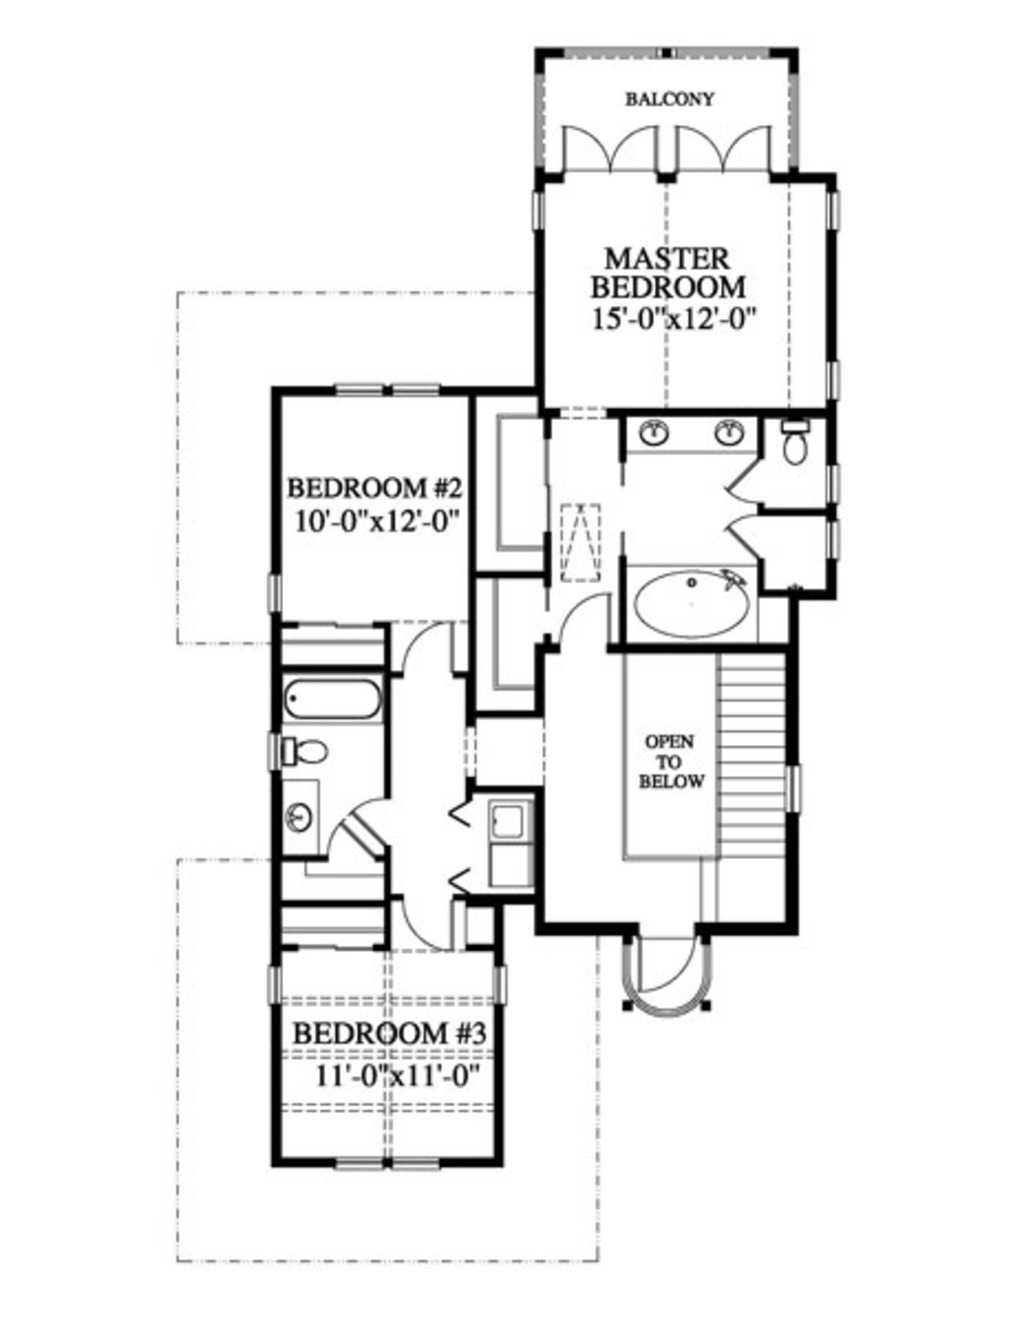door: (549, 118, 659, 184), (670, 121, 776, 181), (630, 932, 696, 1001), (556, 591, 624, 648), (396, 887, 455, 953), (396, 617, 462, 671), (324, 822, 373, 869), (355, 787, 393, 846)
large_sink: (672, 117, 773, 184), (273, 729, 346, 769), (773, 418, 821, 474)
small_sink: (622, 411, 756, 463), (280, 773, 317, 860)
stairs: (708, 652, 801, 931)
tub: (628, 562, 758, 649), (280, 674, 386, 726)
windows: (328, 373, 462, 408), (330, 1153, 452, 1177), (783, 762, 808, 827), (259, 955, 284, 1001)
